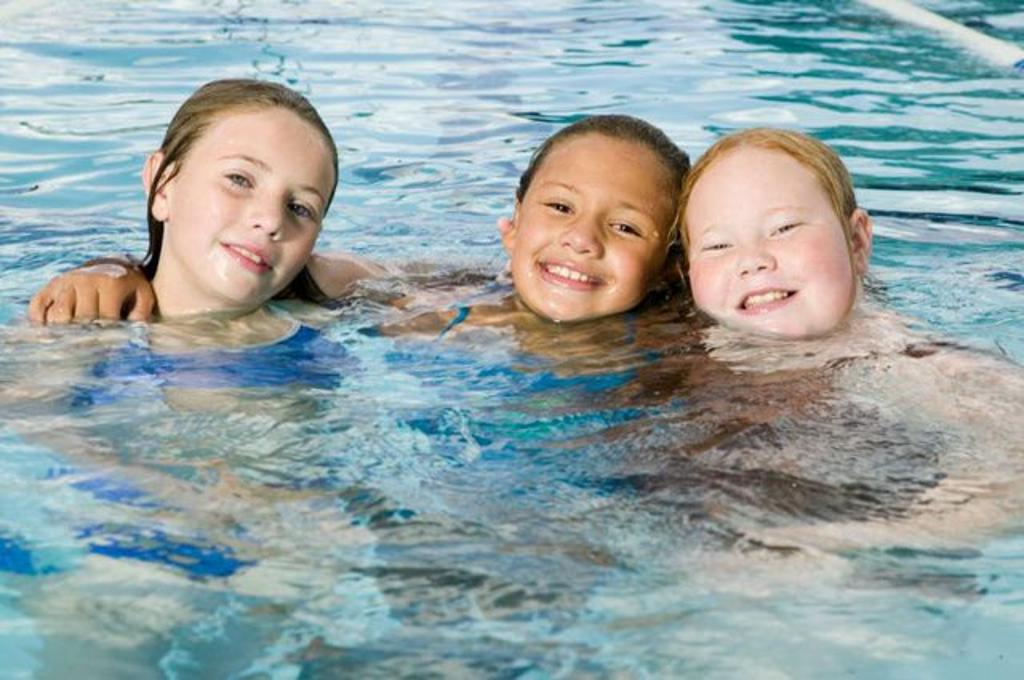face: (694, 174, 840, 340), (522, 152, 664, 320), (184, 136, 328, 300)
